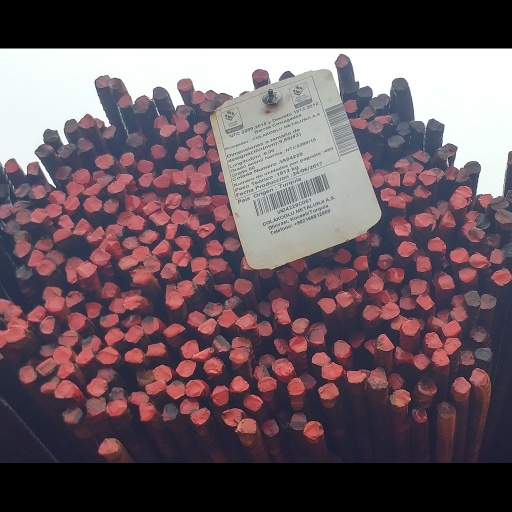dipstick: (364, 366, 390, 393), (301, 419, 324, 442), (414, 375, 438, 397), (95, 436, 120, 456), (468, 365, 490, 387), (317, 380, 340, 401), (216, 308, 239, 329), (450, 375, 474, 395), (87, 247, 111, 267), (387, 389, 412, 408), (183, 379, 209, 397), (374, 332, 394, 355), (330, 339, 353, 359), (221, 408, 244, 428), (52, 380, 76, 399), (44, 247, 68, 266), (413, 294, 438, 312), (234, 417, 259, 435), (490, 267, 511, 288), (76, 259, 97, 280), (394, 343, 414, 365), (228, 375, 250, 395), (133, 367, 156, 386), (104, 398, 127, 417), (102, 327, 125, 346), (422, 331, 446, 349), (93, 152, 117, 170), (399, 317, 420, 337), (467, 323, 488, 343), (436, 400, 457, 420), (274, 306, 294, 327), (26, 303, 47, 323), (408, 276, 430, 295), (320, 362, 343, 380), (57, 329, 80, 347), (175, 360, 199, 377), (12, 263, 36, 280), (288, 411, 308, 431), (287, 333, 307, 353), (290, 315, 310, 335), (431, 348, 452, 367), (201, 357, 222, 376), (161, 401, 180, 422), (138, 402, 157, 423), (86, 377, 107, 396), (85, 397, 106, 416), (82, 194, 103, 213), (362, 276, 384, 294), (411, 352, 433, 370), (151, 364, 173, 382), (163, 291, 185, 309), (121, 310, 143, 328), (131, 266, 153, 284), (35, 258, 57, 276), (275, 267, 298, 284), (61, 407, 84, 424), (448, 305, 472, 321), (307, 325, 326, 345), (242, 393, 262, 412), (197, 318, 217, 337), (212, 334, 232, 353), (181, 339, 200, 359), (36, 357, 56, 376), (11, 239, 31, 258), (28, 182, 48, 201), (449, 193, 470, 211), (396, 239, 417, 257), (442, 336, 463, 354), (317, 296, 338, 314), (190, 407, 211, 425), (3, 304, 24, 322), (298, 282, 323, 297), (286, 376, 303, 398), (331, 248, 353, 265), (228, 346, 250, 363), (144, 378, 166, 395), (97, 347, 119, 364), (52, 345, 74, 362), (190, 269, 212, 286), (151, 239, 173, 256), (149, 210, 171, 227), (4, 325, 26, 342), (138, 228, 161, 244), (26, 249, 49, 265), (398, 294, 417, 313), (475, 344, 494, 363), (298, 369, 317, 388), (72, 217, 91, 236), (469, 251, 489, 269), (464, 289, 482, 309), (479, 291, 497, 311), (426, 235, 446, 253), (382, 301, 400, 321), (387, 371, 407, 389), (211, 386, 229, 406), (75, 347, 95, 365), (19, 365, 37, 385), (39, 375, 59, 393), (83, 301, 103, 319), (68, 312, 86, 332), (67, 289, 85, 309), (163, 191, 183, 209), (2, 218, 22, 236), (9, 198, 33, 213), (62, 181, 86, 196), (136, 156, 156, 174), (465, 224, 486, 241), (449, 246, 470, 263), (384, 267, 405, 284), (362, 304, 383, 321), (312, 350, 333, 367), (179, 397, 200, 414), (172, 250, 193, 267), (130, 245, 151, 262), (104, 223, 126, 239), (3, 317, 30, 330), (255, 377, 278, 392), (439, 209, 457, 228), (493, 208, 512, 226), (260, 419, 279, 437), (255, 300, 274, 318), (166, 380, 185, 398), (141, 316, 160, 334), (125, 325, 144, 343), (178, 279, 196, 298), (123, 293, 142, 311), (108, 296, 127, 314), (212, 203, 231, 221), (221, 214, 239, 233), (143, 254, 162, 272), (31, 206, 49, 225), (14, 207, 33, 225), (71, 166, 90, 184), (486, 247, 506, 264), (411, 405, 428, 425), (335, 291, 355, 308), (124, 347, 144, 364), (40, 315, 57, 335), (57, 142, 77, 159), (126, 132, 146, 149), (149, 141, 169, 158), (440, 320, 461, 336), (274, 362, 295, 378), (162, 323, 186, 337), (99, 312, 120, 328), (142, 200, 163, 216), (456, 267, 478, 282), (265, 286, 287, 301), (129, 391, 151, 406), (32, 237, 54, 252), (42, 203, 64, 218), (205, 238, 223, 256), (457, 348, 476, 365), (324, 273, 343, 290), (86, 226, 105, 243), (135, 170, 154, 187), (76, 136, 95, 153), (158, 122, 177, 139), (152, 113, 171, 130), (188, 143, 207, 160), (220, 295, 243, 309), (41, 285, 64, 299), (52, 228, 75, 242), (106, 179, 129, 193), (462, 159, 482, 175), (393, 222, 413, 238), (339, 267, 359, 283), (203, 301, 223, 317), (117, 209, 137, 225), (122, 194, 142, 210), (152, 173, 172, 189), (12, 183, 32, 199), (418, 170, 439, 185), (378, 186, 399, 201), (488, 196, 509, 211), (234, 313, 255, 328), (186, 311, 207, 326), (52, 165, 73, 180), (388, 215, 412, 228), (95, 368, 119, 381), (251, 364, 273, 378), (193, 347, 215, 361), (44, 296, 66, 310), (200, 98, 222, 112), (427, 117, 444, 135), (359, 105, 377, 122), (438, 274, 456, 291), (414, 256, 432, 273), (348, 329, 365, 347), (353, 254, 370, 272), (234, 277, 252, 294), (99, 282, 117, 299), (159, 262, 177, 279), (102, 197, 120, 214), (77, 113, 95, 130), (101, 124, 119, 141), (173, 145, 191, 162), (250, 68, 269, 84), (272, 336, 288, 355), (25, 160, 41, 179), (2, 158, 21, 174), (42, 128, 61, 144), (385, 133, 405, 148), (208, 258, 228, 273), (147, 342, 167, 357), (175, 236, 195, 251), (196, 222, 216, 237), (170, 209, 190, 224), (118, 255, 138, 270), (122, 235, 142, 250), (95, 172, 118, 185), (386, 196, 407, 210), (345, 370, 366, 384), (64, 254, 85, 268), (415, 182, 432, 199), (381, 286, 398, 303), (171, 170, 188, 187), (415, 212, 433, 228), (390, 314, 408, 330), (222, 236, 240, 252), (190, 256, 208, 272), (189, 178, 207, 194), (63, 194, 81, 210), (49, 189, 67, 205), (366, 119, 385, 134), (449, 292, 468, 307), (306, 267, 325, 282), (214, 282, 233, 297), (107, 386, 126, 401), (56, 363, 75, 378), (125, 215, 144, 230), (210, 192, 229, 207), (454, 185, 474, 199), (375, 254, 395, 268), (288, 257, 308, 271), (81, 181, 101, 195), (185, 134, 205, 148), (271, 296, 292, 309), (114, 171, 135, 184), (152, 85, 169, 101), (401, 170, 418, 186), (461, 218, 477, 235), (485, 231, 502, 247), (256, 320, 273, 336), (185, 213, 201, 230), (197, 160, 213, 177), (175, 117, 191, 134), (91, 73, 109, 88), (385, 172, 403, 187), (475, 211, 490, 229), (40, 342, 58, 357), (205, 131, 220, 149), (192, 119, 210, 134), (175, 102, 193, 117), (175, 77, 194, 91), (342, 81, 361, 95), (165, 222, 179, 241), (138, 191, 157, 205), (411, 150, 431, 163), (33, 143, 53, 156), (455, 167, 471, 183), (435, 199, 451, 215), (118, 150, 134, 166), (62, 117, 78, 133), (107, 77, 124, 92), (334, 53, 351, 68), (479, 191, 494, 208), (370, 268, 387, 283), (190, 90, 208, 104), (409, 120, 427, 134), (351, 116, 369, 130), (393, 158, 412, 171), (58, 215, 77, 228), (11, 230, 30, 243), (257, 354, 279, 365), (424, 204, 440, 219), (363, 337, 378, 353), (231, 336, 251, 348), (116, 94, 133, 108), (392, 77, 409, 91), (357, 85, 374, 99), (342, 98, 359, 112), (436, 305, 450, 322), (64, 266, 78, 283), (207, 148, 221, 165), (169, 111, 186, 125), (90, 169, 108, 182), (444, 143, 459, 158), (369, 231, 383, 247), (412, 245, 429, 258), (192, 195, 209, 208), (369, 97, 387, 109), (180, 163, 198, 175), (397, 189, 412, 203), (369, 173, 384, 187), (400, 282, 414, 297), (133, 100, 149, 113), (436, 145, 449, 161), (444, 166, 458, 180), (396, 121, 410, 135), (376, 92, 392, 104), (0, 203, 12, 219), (214, 91, 231, 102), (409, 160, 424, 172), (372, 165, 390, 175), (360, 149, 374, 161), (260, 268, 275, 279), (374, 115, 394, 123), (465, 209, 479, 220), (401, 153, 414, 162)
